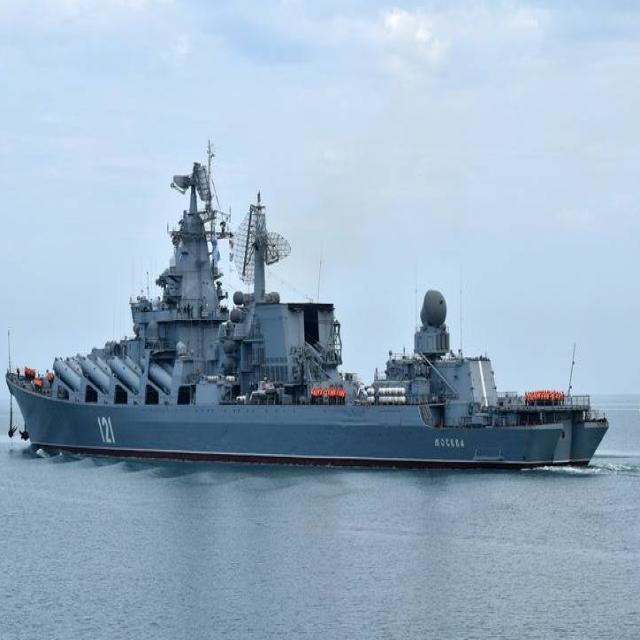navalvessels: (7, 158, 617, 485)
